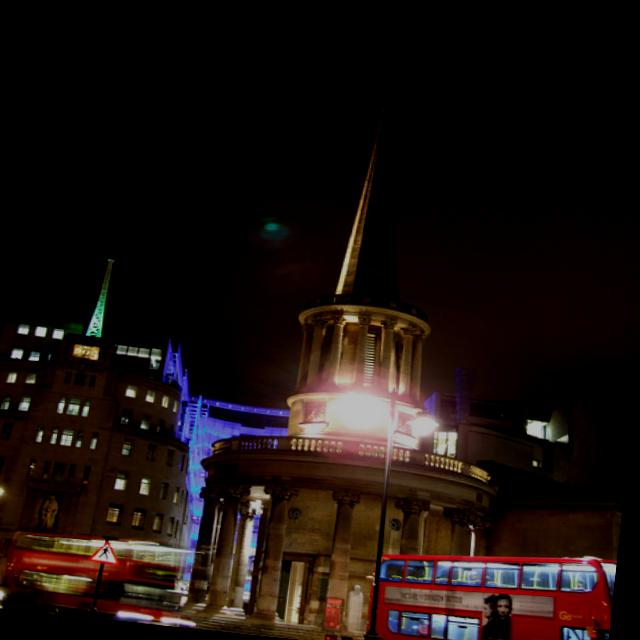Vehicle: (371, 536, 616, 640), (0, 525, 184, 626)
